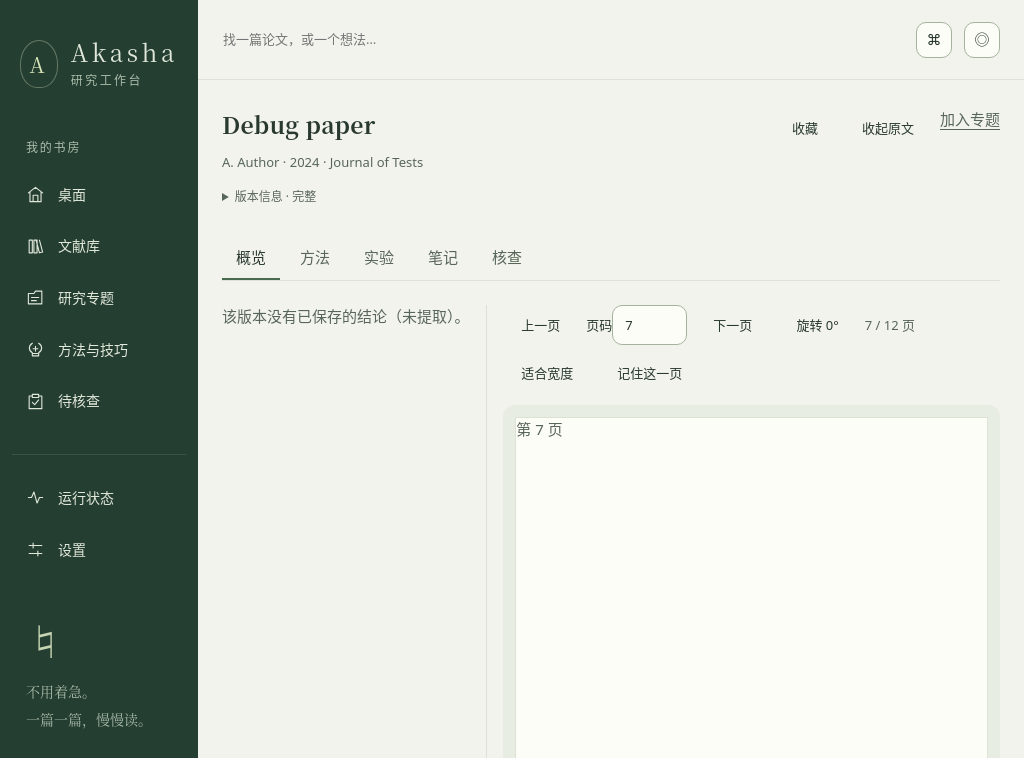
Scenario: UI workflow regression › opens the stored page, updates the URL and saves an explicit reading bookmark
The image size is (1024, 758).
Expected: the element with test id "pinned-version" is shown, [235,188,316,205]
Expected: the number field labelled "页码" holds "7", [612,305,687,345]
Click the button "下一页".
click(733, 325)  # box [695,305,770,345]
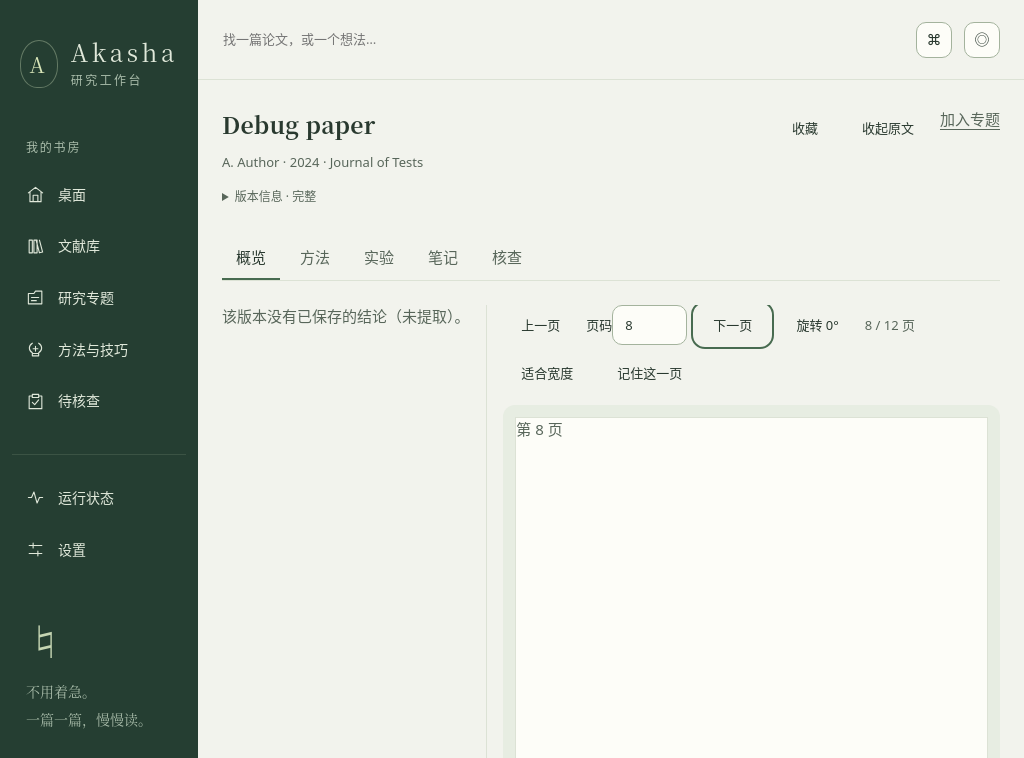
Click the button "记住这一页".
click(650, 373)  # box [599,353,700,393]
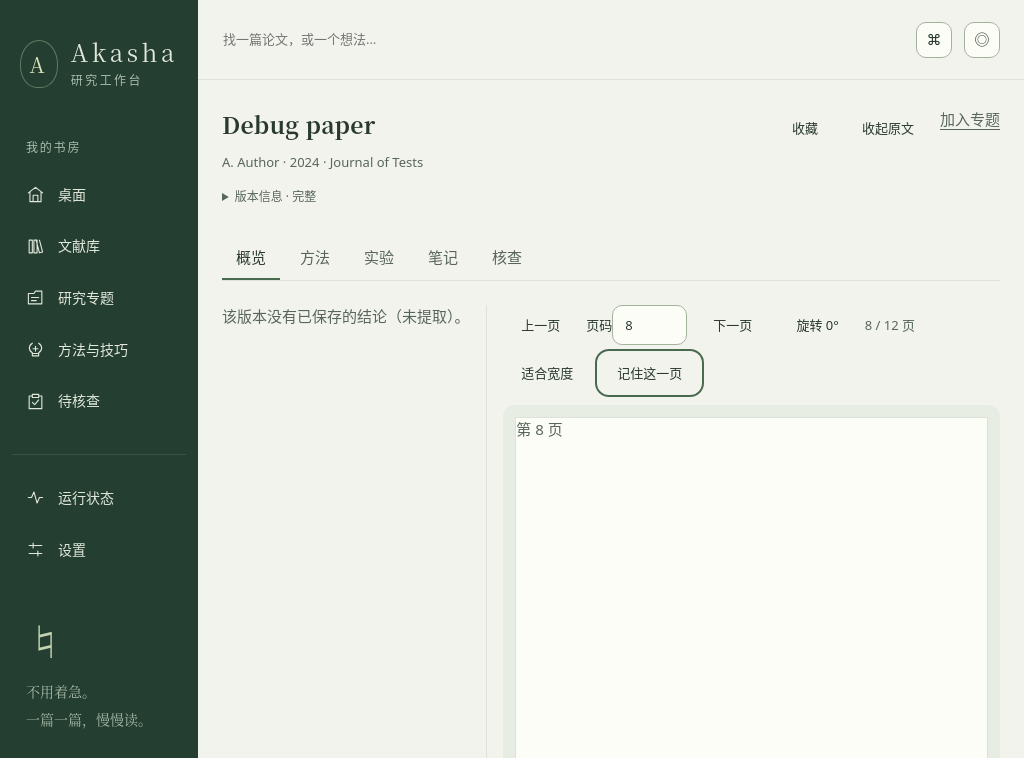
Click the tab "方法".
click(315, 259)  # box [286,238,344,280]
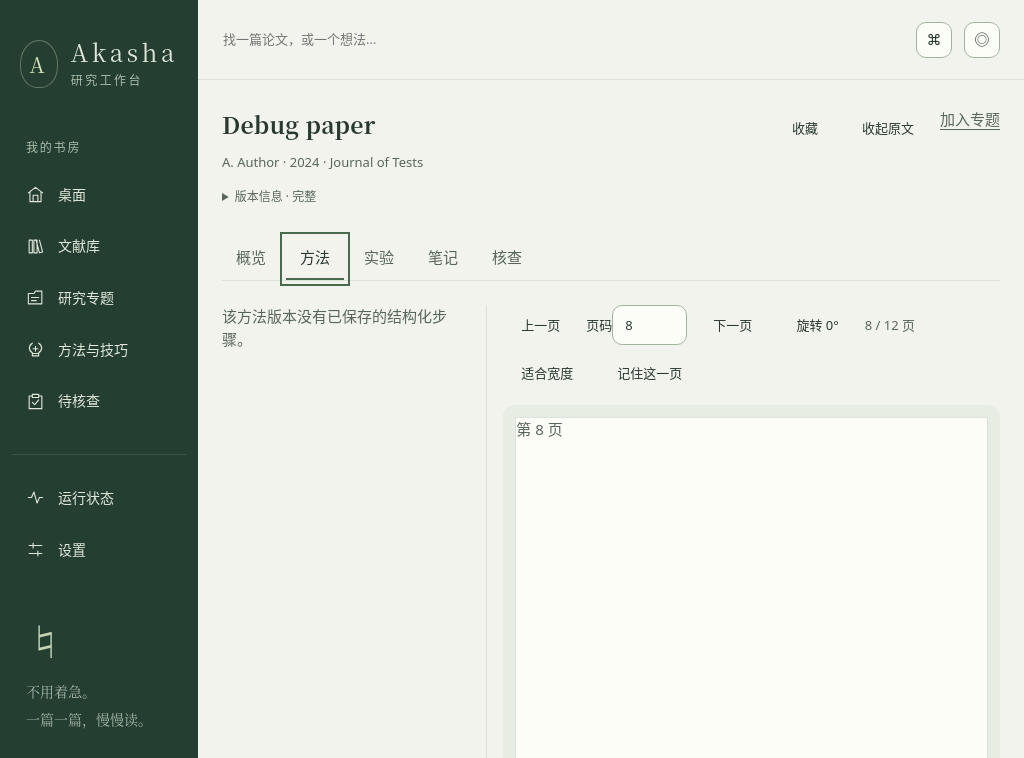
Click the link "桌面".
click(56, 194)  # box [26,185,86,204]
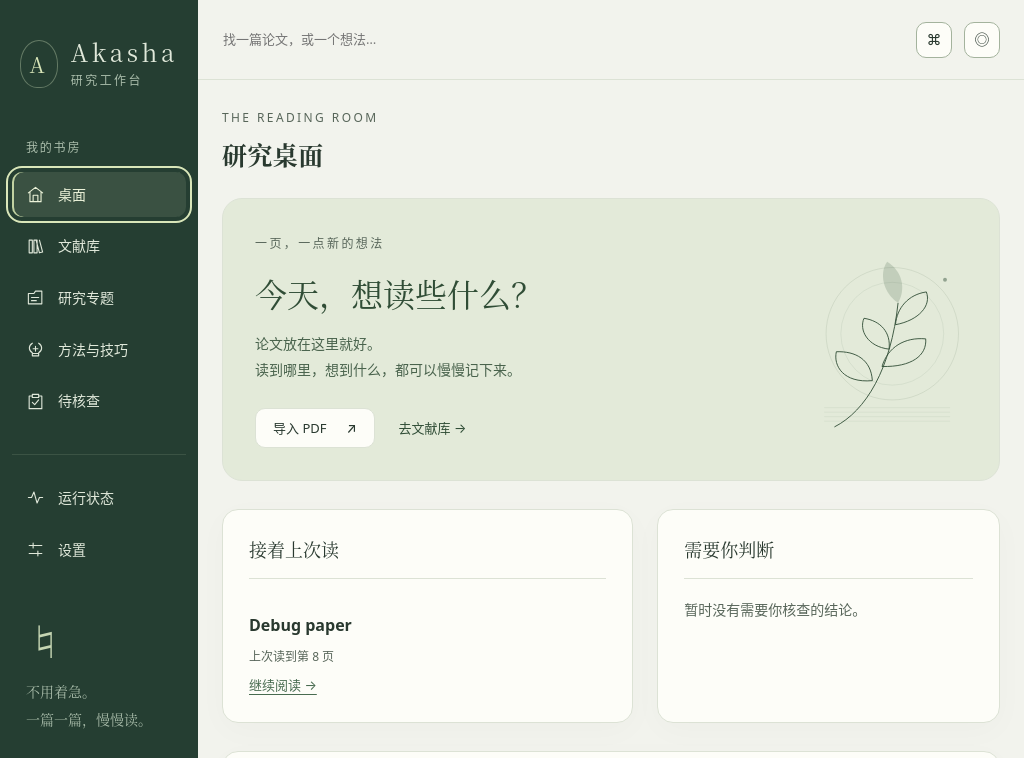
Click the link "继续阅读 →".
click(283, 685)  # box [249,675,317,696]
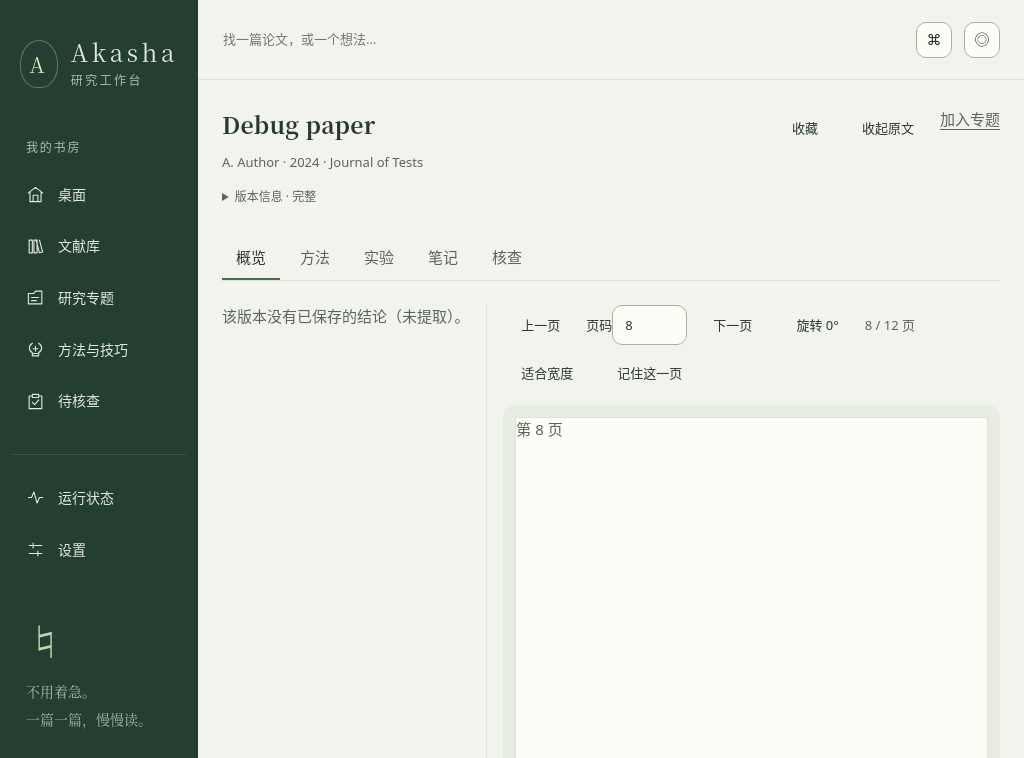
Expected: the number field labelled "页码" holds "8", [612,305,687,345]
